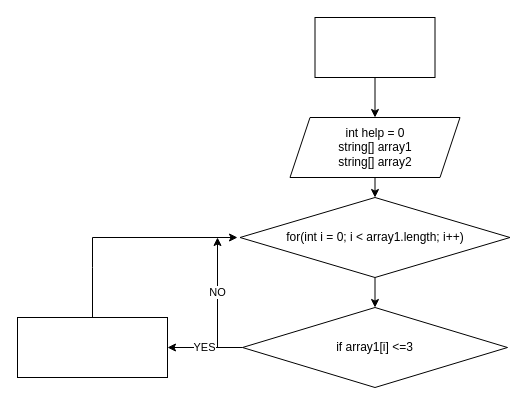
The diagram is 528 pixels wide and 405 high, and some of its shapes have lost their labels. The centre of each missing label's shape, as x and y in pixels:
array2[help] = array1[i] help++: (x=92, y=347)
SortArray: (x=374, y=47)
